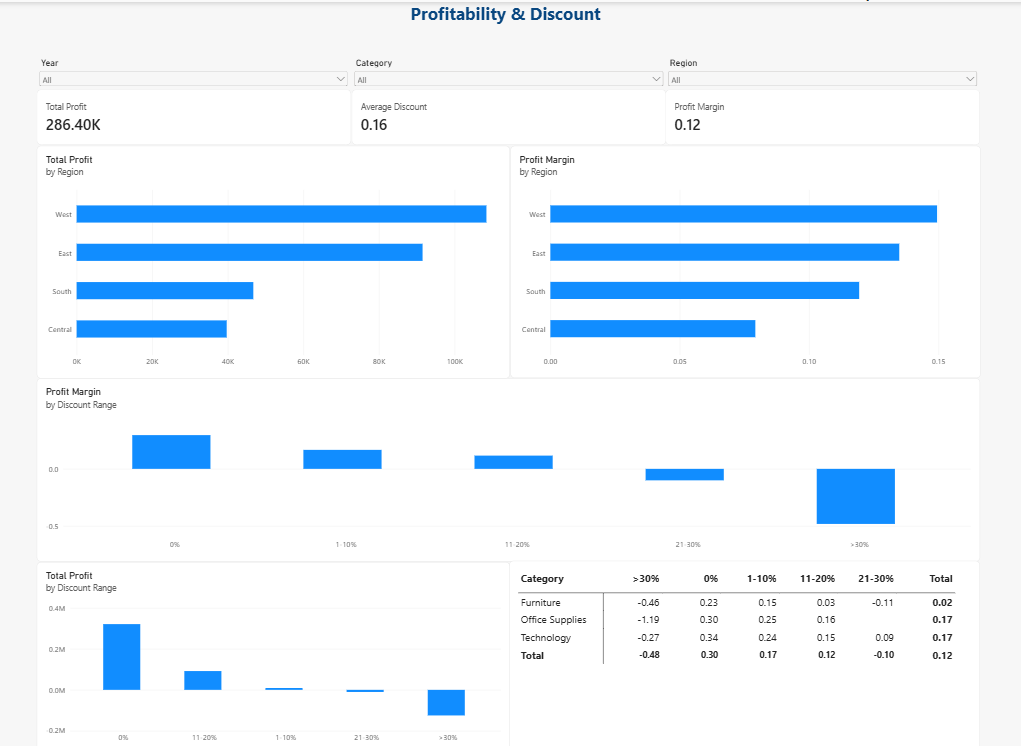

The page's visual inventory and layout, read from the dashboard file:
{"tool":"powerbi","page":{"name":"Profitability & Discount","canvas":[1920,1400],"ordinal":2},"visuals":[{"type":"clusteredBarChart","fields":{"Category":["Fact_Sale1.Region"],"Y":["Fact_Sale1.Total Profit"]},"box":[73.3,269.3,888.3,436.7],"z":0},{"type":"clusteredBarChart","fields":{"Category":["Fact_Sale1.Region"],"Y":["Fact_Sale1.Profit Margin"]},"box":[961.6,270,882,436],"z":2000},{"type":"clusteredColumnChart","fields":{"Category":["Fact_Sale1.Discount Range"],"Y":["Fact_Sale1.Profit Margin"]},"box":[73.6,706,1770,344],"z":3000},{"type":"pivotTable","fields":{"Columns":["Fact_Sale1.Discount Range"],"Rows":["Dim_Product.Category"],"Values":["Fact_Sale1.Profit Margin"]},"box":[959.9,1049.3,883.3,361.7],"z":4000},{"type":"textbox","box":[774,0,372,48],"z":4001},{"type":"cardVisual","fields":{"Data":["Fact_Sale1.Total Profit"]},"box":[73,164.6,590,104.3],"z":4002},{"type":"cardVisual","fields":{"Data":["Fact_Sale1.Profit Margin"]},"box":[1253,164.6,590,104.3],"z":4003},{"type":"cardVisual","fields":{"Data":["Fact_Sale1.Average Discount"]},"box":[663,164.6,590,104.3],"z":4004},{"type":"clusteredColumnChart","fields":{"Category":["Fact_Sale1.Discount Range"],"Y":["Fact_Sale1.Total Profit"]},"box":[73.6,1050,888,362],"z":4005},{"type":"slicer","fields":{"Values":["Dim_Date.Year"]},"box":[72.9,104.3,588.6,54.3],"z":4006},{"type":"slicer","fields":{"Values":["Dim_Product.Category"]},"box":[662.9,104.3,590,54],"z":4007},{"type":"slicer","fields":{"Values":["Fact_Sale1.Region"]},"box":[1252.9,104.3,590,54],"z":4008}]}

Visuals, with their boxes in screenshot pixels (x1, y1, x2, y2), scaled from the page's 1920x1400 canvas onto the 1021x746 screenshot:
clusteredBarChart - Fact_Sale1.Region x Fact_Sale1.Total Profit: (left=39, top=143, right=511, bottom=376)
clusteredBarChart - Fact_Sale1.Region x Fact_Sale1.Profit Margin: (left=511, top=144, right=980, bottom=376)
clusteredColumnChart - Fact_Sale1.Discount Range x Fact_Sale1.Profit Margin: (left=39, top=376, right=980, bottom=560)
pivotTable - Fact_Sale1.Discount Range x Dim_Product.Category: (left=510, top=559, right=980, bottom=745)
textbox: (left=412, top=0, right=609, bottom=26)
cardVisual - Fact_Sale1.Total Profit: (left=39, top=88, right=353, bottom=143)
cardVisual - Fact_Sale1.Profit Margin: (left=666, top=88, right=980, bottom=143)
cardVisual - Fact_Sale1.Average Discount: (left=353, top=88, right=666, bottom=143)
clusteredColumnChart - Fact_Sale1.Discount Range x Fact_Sale1.Total Profit: (left=39, top=560, right=511, bottom=745)
slicer - Dim_Date.Year: (left=39, top=56, right=352, bottom=85)
slicer - Dim_Product.Category: (left=353, top=56, right=666, bottom=84)
slicer - Fact_Sale1.Region: (left=666, top=56, right=980, bottom=84)
